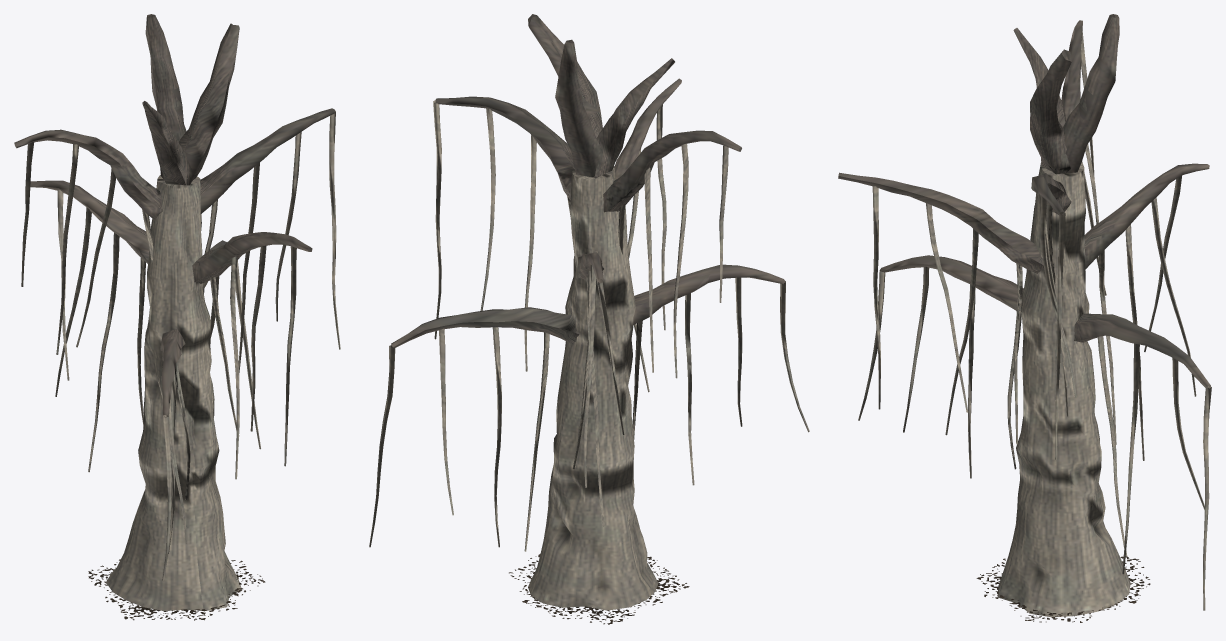
File: tree_weeping_ash.glb
3 renders of one model, left to right at view 1: azimuth 30°, elevation 25°; view 2: azimuth 150°, elevation 25°; view 3: azimuth 270°, elevation 25°, orthographic. The views are drawn at different scales.
Visible parts, largest first — view 1: tree_weeping_ash; view 2: tree_weeping_ash; view 3: tree_weeping_ash.
Part boxes in pixels (x1,y1,x2,y2): tree_weeping_ash: (14,14,340,620); tree_weeping_ash: (369,14,809,624); tree_weeping_ash: (838,14,1211,622).
Size of the model in its own units: 1.89 by 3.2 by 1.89.
2 materials, 2 textured.
